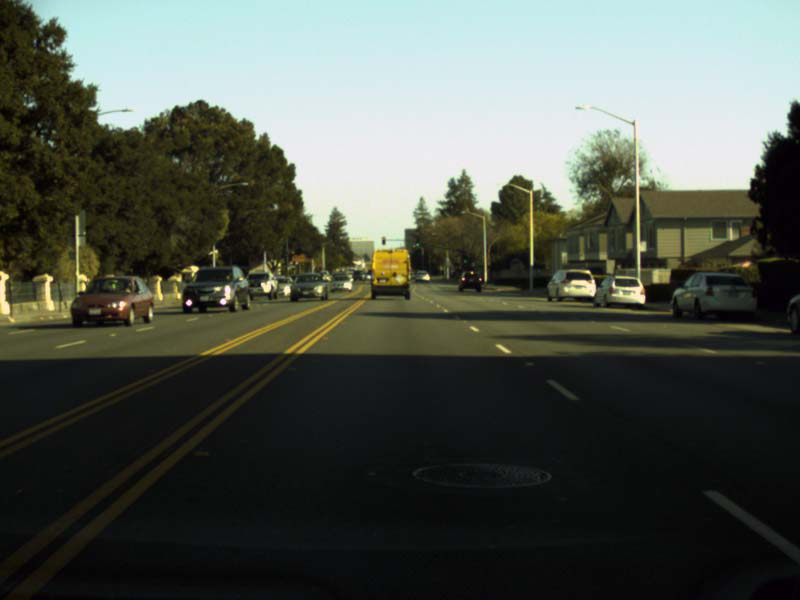Green: (462, 254, 467, 263), (415, 238, 419, 246)
Red: (381, 236, 385, 243)
